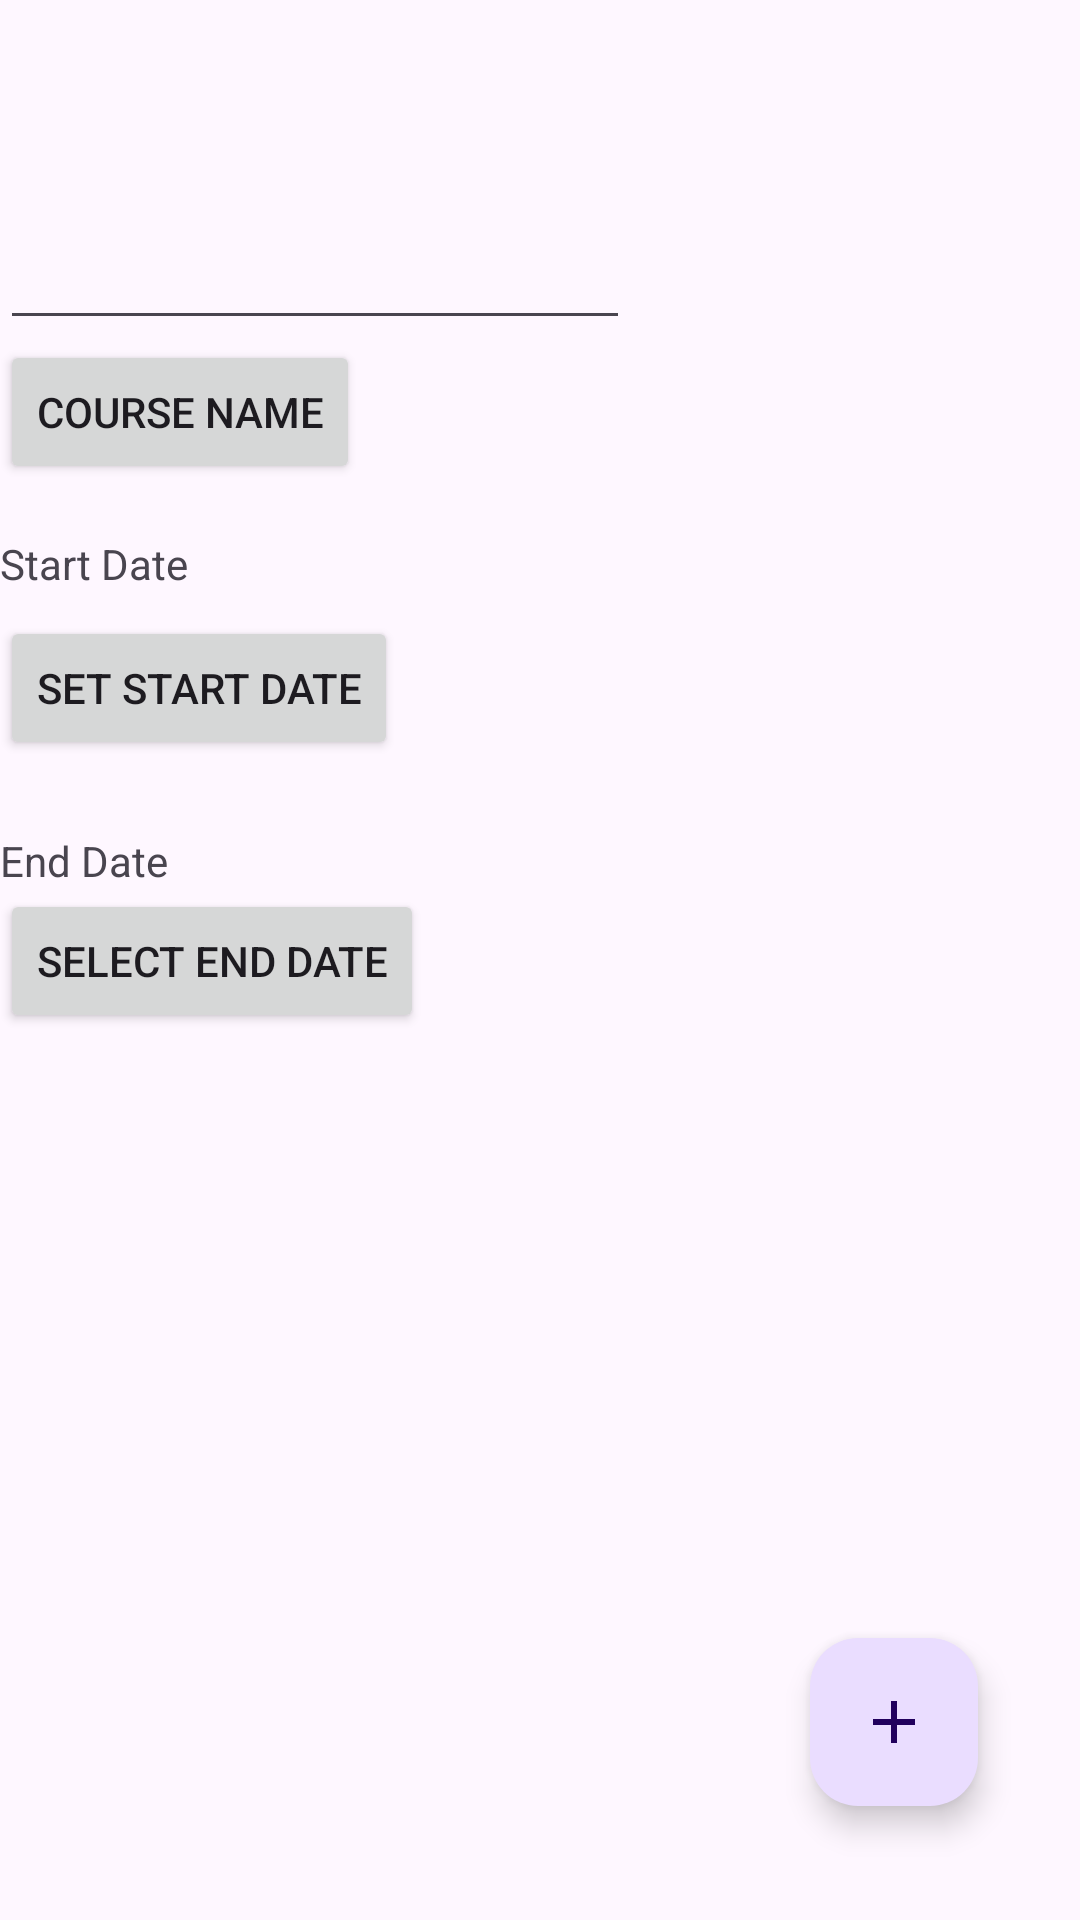

Where icons sit on this 1080px x 1920px app screen, as (left=x1, top=y1, right=x2, bottom=y2):
add: (left=810, top=1638, right=978, bottom=1806)
